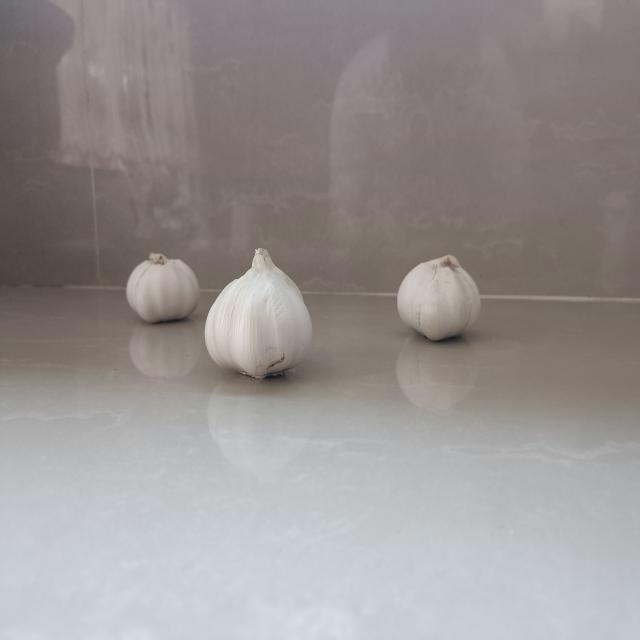garlic: (202, 248, 318, 387), (391, 252, 487, 344), (124, 248, 200, 325)
